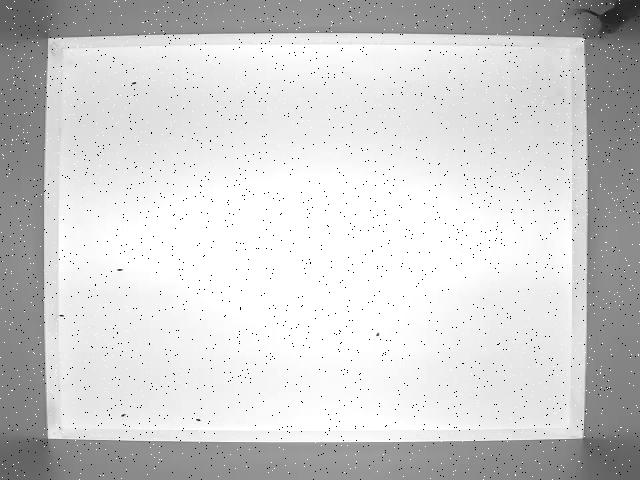Tikus: (572, 0, 640, 42)
